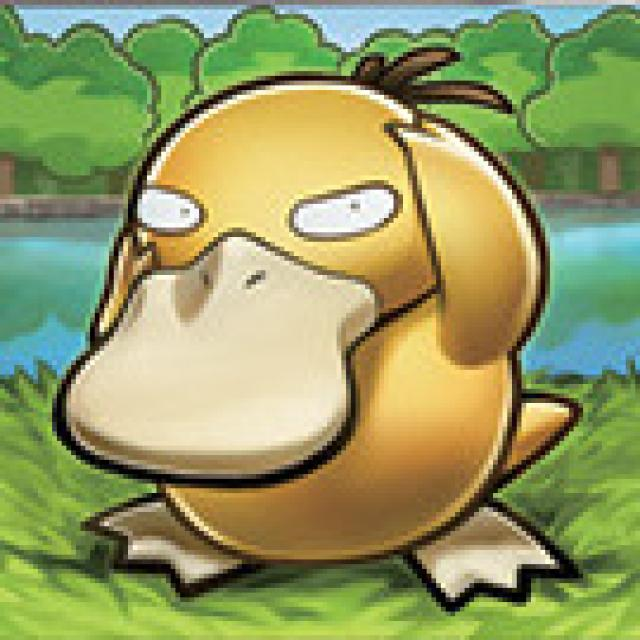Psyduck: (78, 75, 568, 617)
